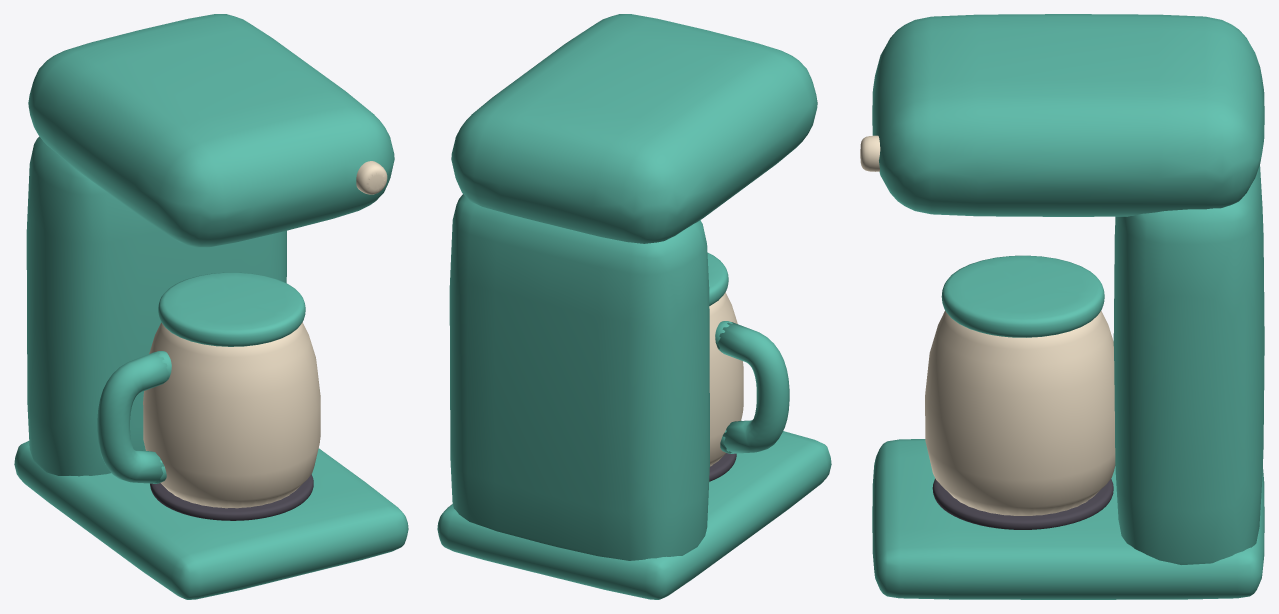
File: coffee_a.glb
The picture shows the model from 3 angles, left to right: view 1: azimuth 30°, elevation 25°; view 2: azimuth 150°, elevation 25°; view 3: azimuth 270°, elevation 25°; orthographic projection. The views are drawn at different scales.
Visible parts, largest first — view 1: body; view 2: body; view 3: body.
Boxes of the visible parts, box(x1,y1,x2,y2) form: body: box(14, 14, 408, 599); body: box(437, 14, 831, 599); body: box(860, 14, 1264, 599).
Size of the model in its own units: 0.212 by 0.36 by 0.2681.
